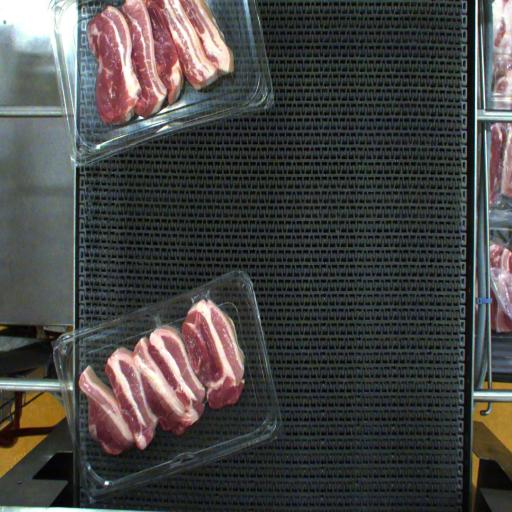loose-meat: (74, 362, 111, 449)
packaging-error: (150, 278, 230, 323)
